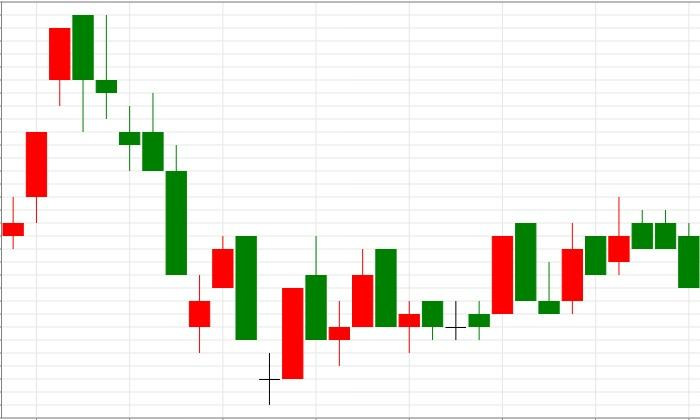bearish_engulfing_fall: (2, 14, 95, 248)
morning_star_rise: (73, 14, 304, 404)
